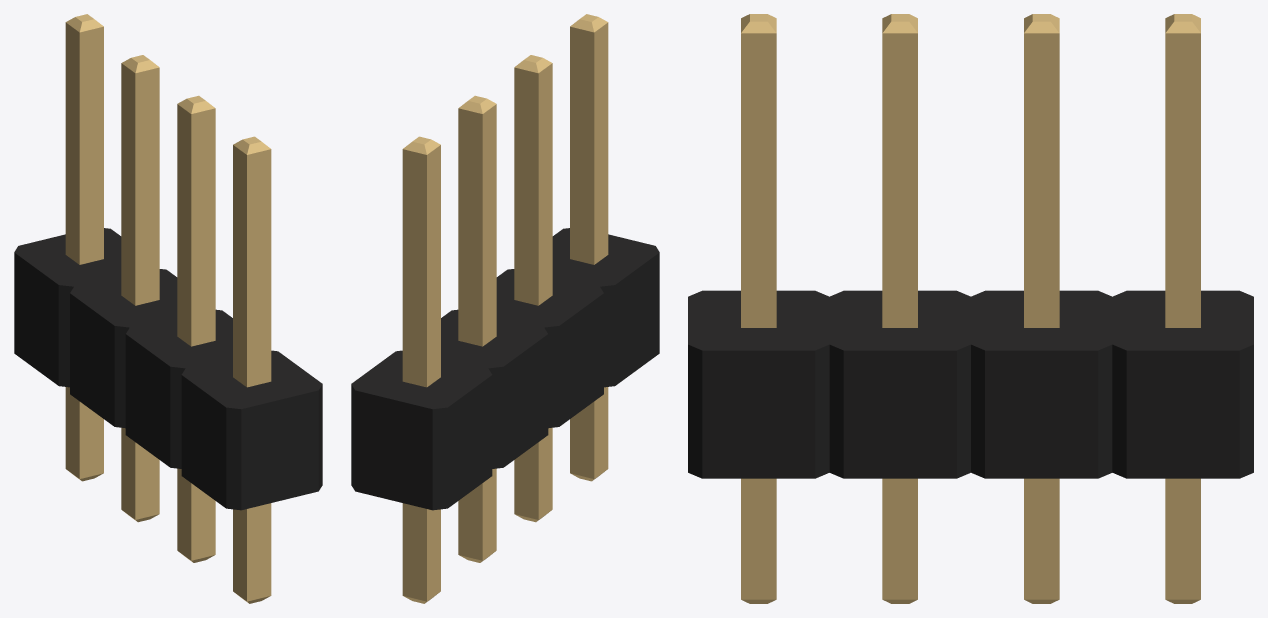
Rendered from PinHeader_1x04_P2.54mm_Vertical.glb.
3 views of the same model, side by side, from view 1: azimuth 30°, elevation 25°; view 2: azimuth 150°, elevation 25°; view 3: azimuth 270°, elevation 25° (orthographic). The views are drawn at different scales.
Visible parts, largest first — view 1: =>[0:1:1:3]; view 2: =>[0:1:1:3]; view 3: =>[0:1:1:3].
Boxes of the visible parts, x1,y1,x2,y2 form: =>[0:1:1:3]: [14, 14, 322, 603]; =>[0:1:1:3]: [351, 14, 659, 603]; =>[0:1:1:3]: [688, 14, 1253, 603].
Size of the model in its own units: 0.00254 by 0.0115 by 0.0102.
